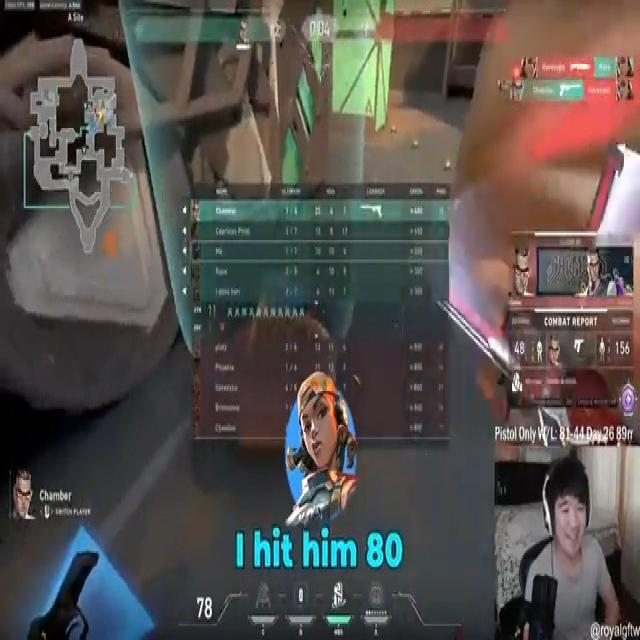smoke: (455, 8, 640, 300)
